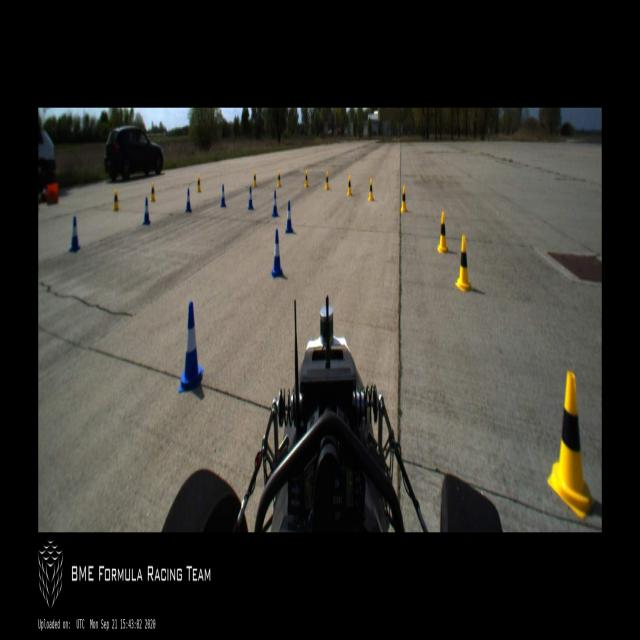blue_cone: (179, 302, 203, 392), (272, 229, 282, 277), (70, 217, 80, 251), (286, 202, 293, 233), (143, 198, 150, 225), (272, 191, 278, 217), (186, 188, 192, 212), (220, 185, 226, 207), (248, 186, 253, 209)
yellow_cone: (548, 372, 593, 519), (456, 235, 471, 292), (438, 212, 448, 252), (400, 185, 407, 213), (368, 178, 374, 202), (150, 182, 156, 202), (347, 175, 352, 196), (114, 189, 118, 210), (325, 171, 329, 189), (304, 170, 308, 188), (197, 175, 201, 192), (277, 171, 281, 187), (253, 170, 256, 188)
